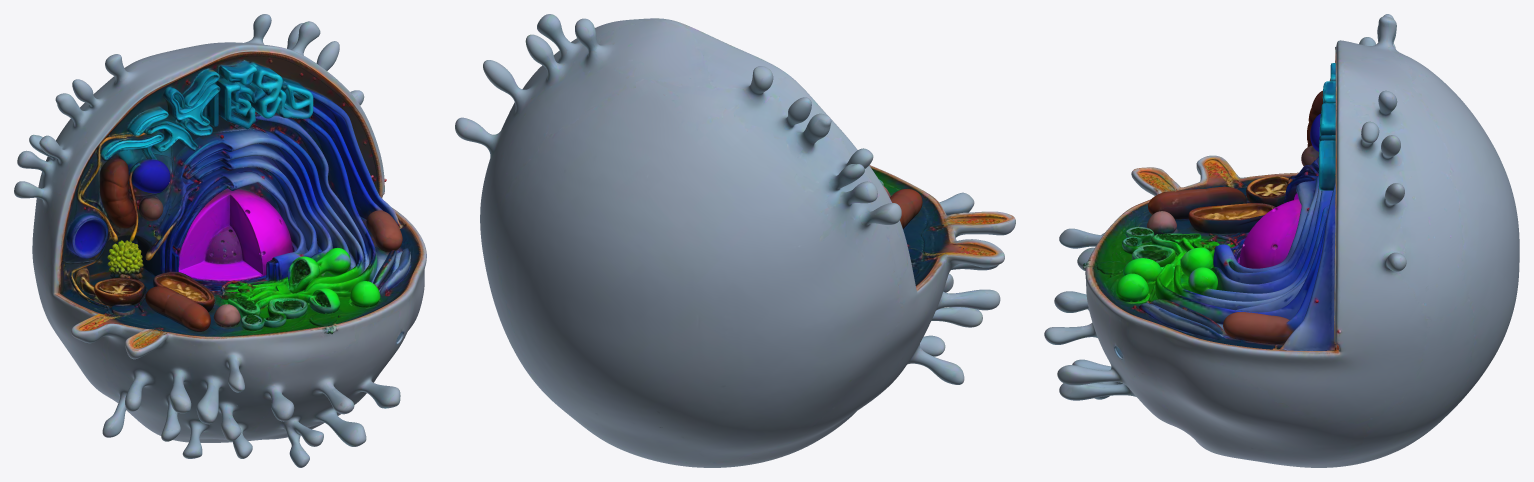
Rendered from upload-5cc1b71c-035a-45fc-a3d9-5c242da45fac.glb.
The picture shows the model from 3 angles, left to right: view 1: azimuth 30°, elevation 25°; view 2: azimuth 150°, elevation 25°; view 3: azimuth 270°, elevation 25°; orthographic projection. The views are drawn at different scales.
Parts seen in each view (by area): view 1: node_0; view 2: node_0; view 3: node_0.
Part boxes in pixels (left/top/right/bottom): node_0: left=14, top=14, right=426, bottom=467; node_0: left=455, top=14, right=1015, bottom=467; node_0: left=1044, top=14, right=1519, bottom=467.
Bounding box in the file's own units: 0.9973 × 0.9259 × 1.01.
Materials: 1 (1 with a texture image).
